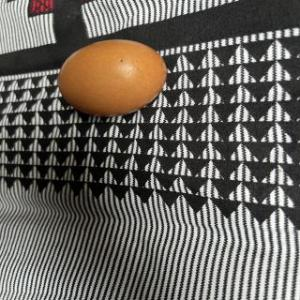egg: (56, 38, 170, 116)
